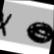correct: (24, 17, 54, 46)
